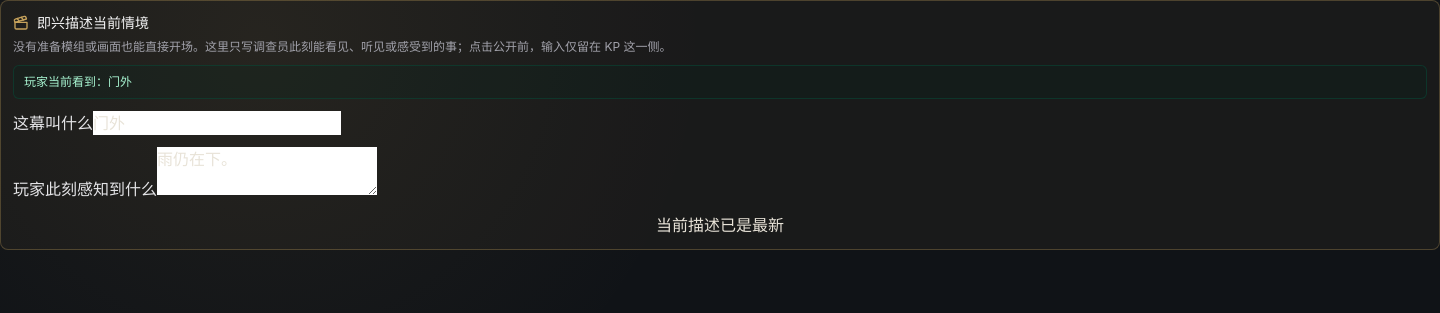
ManualScenePresenterV2 › updates the existing manual situation instead of creating a disconnected scene
Replace the text in the text box named "当前情境公开描述" with "门已经打开，潮湿的走廊伸向黑暗。" at [267, 171], box [157, 147, 377, 195]
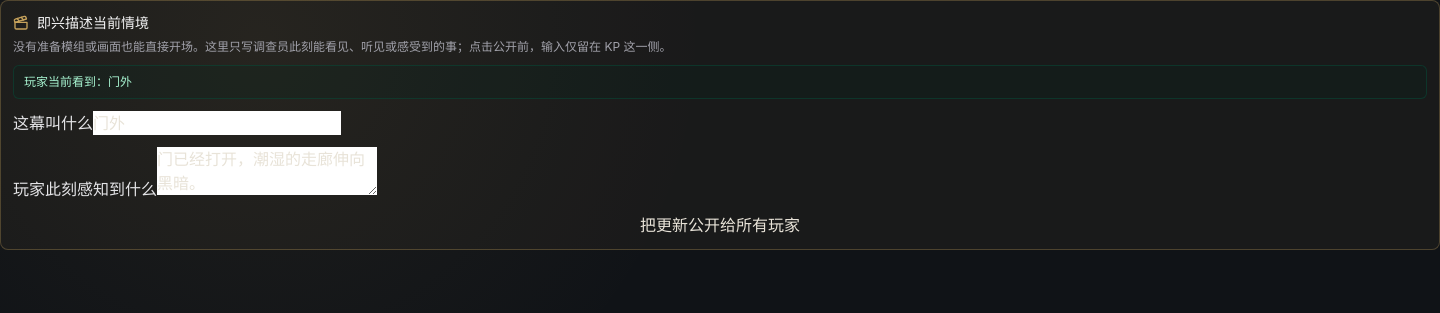
Click the button "把更新公开给所有玩家" at [720, 225], box [13, 213, 1427, 237]
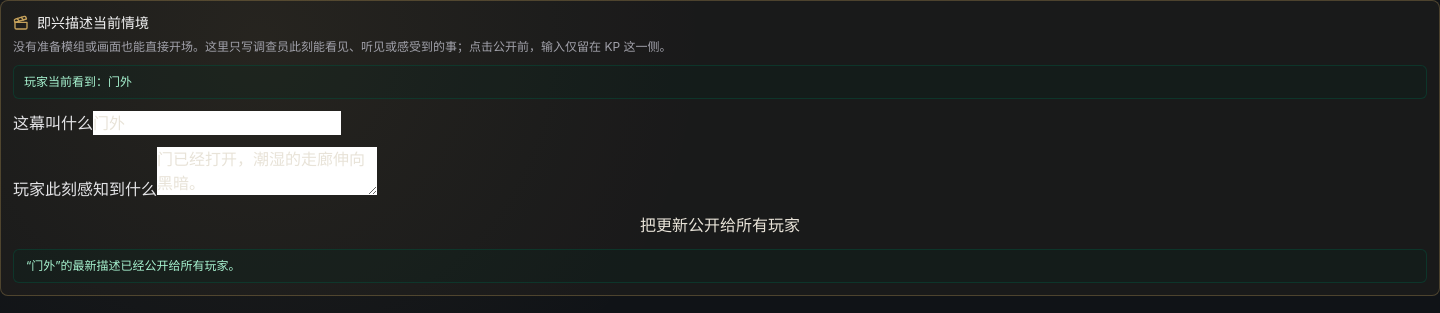
Check: the message shows "最新描述已经公开给所有玩家", box [26, 258, 241, 273]
